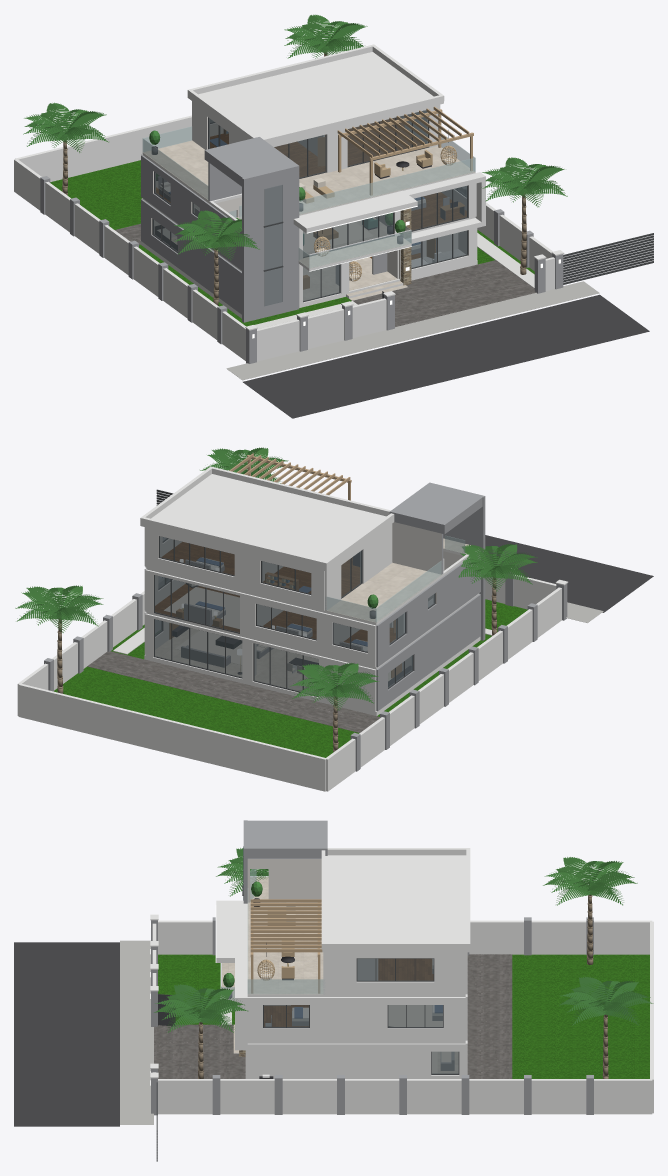
Rendered from villa-amani.glb.
3 renders of one model, top to bottom at view 1: azimuth 30°, elevation 25°; view 2: azimuth 150°, elevation 25°; view 3: azimuth 270°, elevation 25°, orthographic. The views are drawn at different scales.
Visible parts, largest first — view 1: sol-rue, toiture, facade-grise, cloture.002, sol-trottoir, sol-jardin, sol-allee, sol-terrasse, cloture.004, cloture, garde-corps.004, toiture-cage (+35 smaller); view 2: toiture, cloture.004, sol-jardin, cloture.002, sol-terrasse-jardin, sol-rue, vitre.003, vitre.010, sol-terrasse-ouest, toiture-cage, cloture.003, facade.017 (+41 smaller); view 3: sol-rue, sol-jardin, cloture.003, toiture, cloture.002, facade.021, sol-trottoir, sol-terrasse-jardin, sol-terrasse, facade.049, toiture-cage, sol-allee (+27 smaller).
Part boxes in pixels (x1=…): sol-rue: x1=243, y1=294, x2=649, y2=418; toiture: x1=187, y1=52, x2=443, y2=145; facade-grise: x1=242, y1=165, x2=299, y2=322; cloture.002: x1=14, y1=159, x2=245, y2=360; sol-trottoir: x1=226, y1=281, x2=599, y2=380; sol-jardin: x1=50, y1=160, x2=534, y2=326; sol-allee: x1=392, y1=260, x2=535, y2=319; sol-terrasse: x1=299, y1=146, x2=474, y2=214; cloture.004: x1=15, y1=115, x2=191, y2=181; cloture: x1=257, y1=298, x2=386, y2=361; garde-corps.004: x1=299, y1=158, x2=475, y2=214; toiture-cage: x1=204, y1=137, x2=297, y2=186; toiture: x1=140, y1=474, x2=394, y2=571; cloture.004: x1=18, y1=683, x2=326, y2=791; sol-jardin: x1=54, y1=599, x2=527, y2=757; cloture.002: x1=326, y1=587, x2=561, y2=791; sol-terrasse-jardin: x1=87, y1=651, x2=379, y2=732; sol-rue: x1=485, y1=535, x2=653, y2=612; vitre.003: x1=154, y1=619, x2=242, y2=677; vitre.010: x1=154, y1=575, x2=239, y2=632; sol-terrasse-ouest: x1=325, y1=562, x2=441, y2=622; toiture-cage: x1=389, y1=483, x2=483, y2=534; cloture.003: x1=17, y1=591, x2=145, y2=715; facade.017: x1=413, y1=594, x2=480, y2=683; sol-rue: x1=14, y1=942, x2=119, y2=1126; sol-jardin: x1=158, y1=954, x2=649, y2=1078; cloture.003: x1=158, y1=1079, x2=652, y2=1114; toiture: x1=322, y1=855, x2=470, y2=952; cloture.002: x1=158, y1=920, x2=652, y2=954; facade.021: x1=247, y1=1043, x2=431, y2=1078; sol-trottoir: x1=120, y1=940, x2=153, y2=1124; sol-terrasse-jardin: x1=467, y1=954, x2=512, y2=1078; sol-terrasse: x1=247, y1=902, x2=323, y2=994; facade.049: x1=310, y1=997, x2=387, y2=1041; toiture-cage: x1=245, y1=820, x2=327, y2=858; sol-allee: x1=154, y1=1042, x2=245, y2=1078.
Bounding box in the file's own units: 33.6 × 10.86 × 41.1.
Materials: 46 (7 with a texture image).
